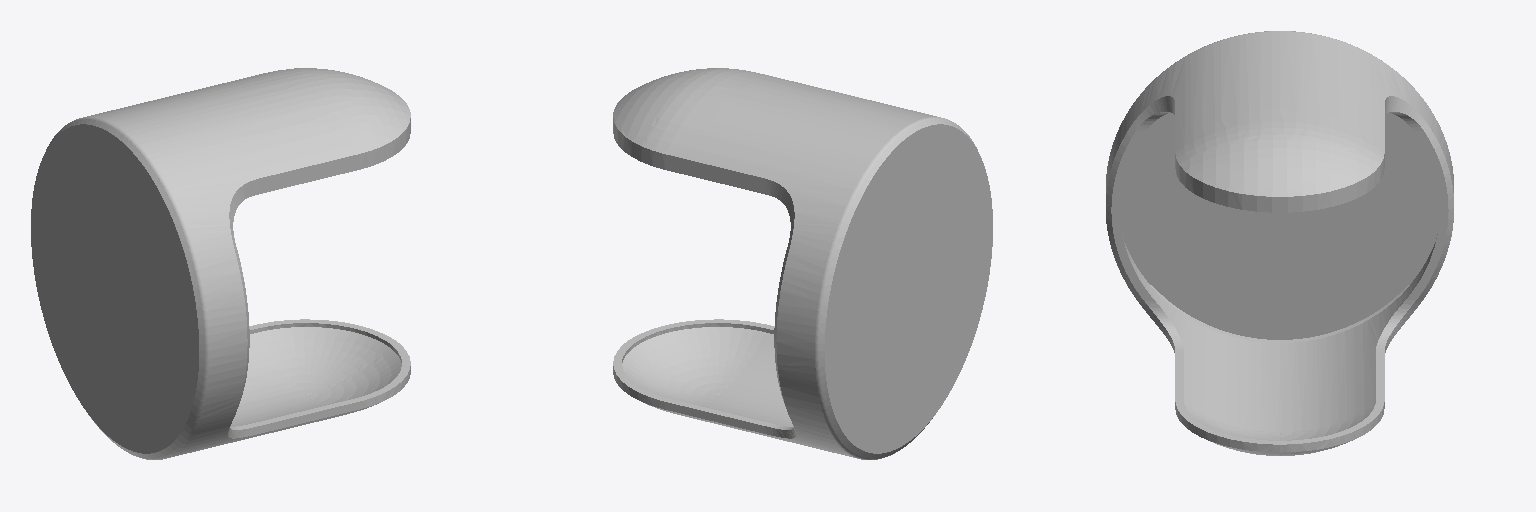
File: left_wrist_roll_link_collisions.obj
3 views of the same model, side by side, from view 1: azimuth 30°, elevation 25°; view 2: azimuth 150°, elevation 25°; view 3: azimuth 270°, elevation 25° (orthographic).
Bounding box in the file's own units: 0.056 × 0.0605 × 0.06.